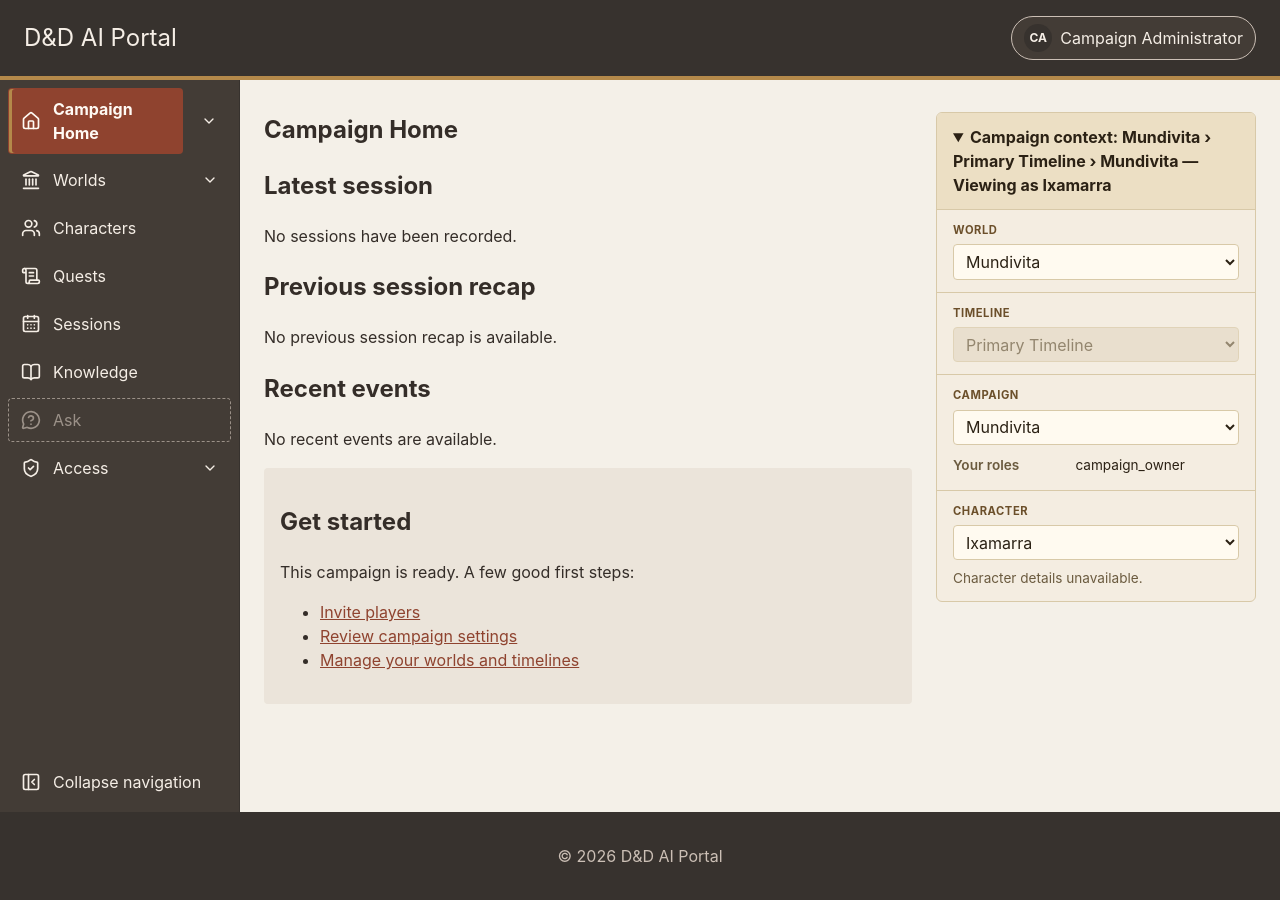
Test case: portal routing › logs out from a global route to the login form, never back to /home (redirect-loop guard)
The image size is (1280, 900).
Click the button with aria-label "account menu": point(1134, 38) [1011,16,1256,60]
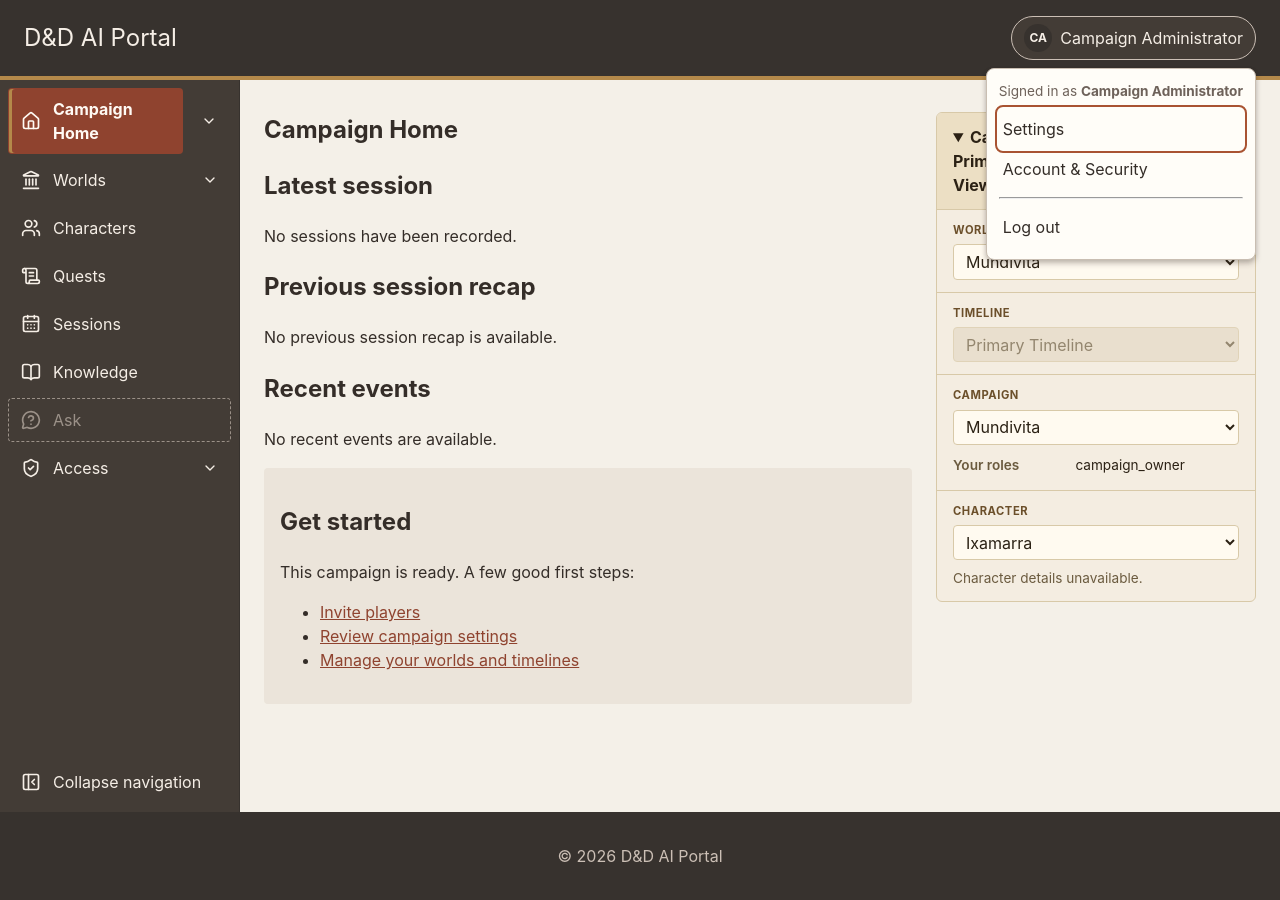
Click the button "Log out": point(1121, 227) [999,207,1243,247]
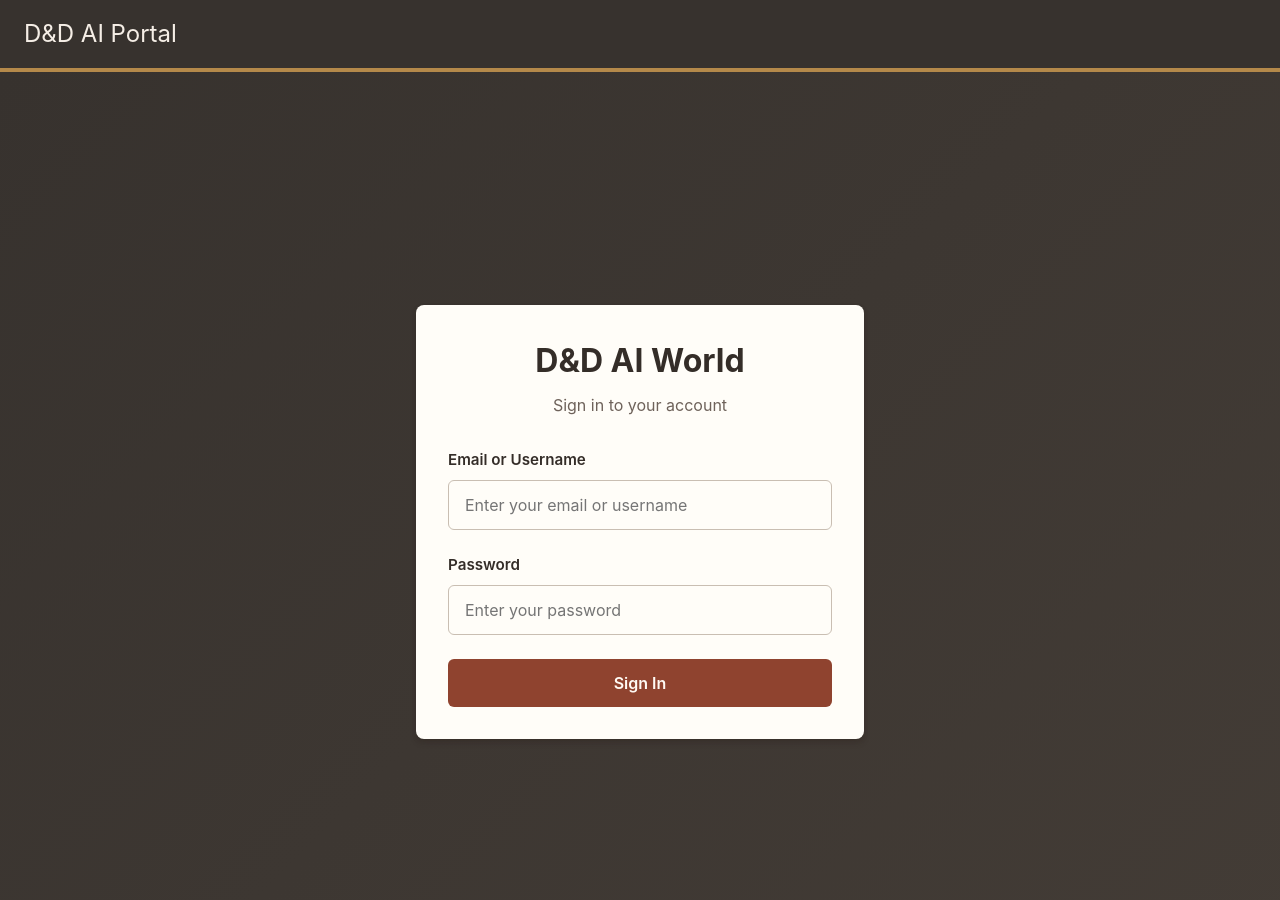
Expected: the heading "D&D AI World" is shown, [535,341,745,380]
Expected: the link "Home" is gone
